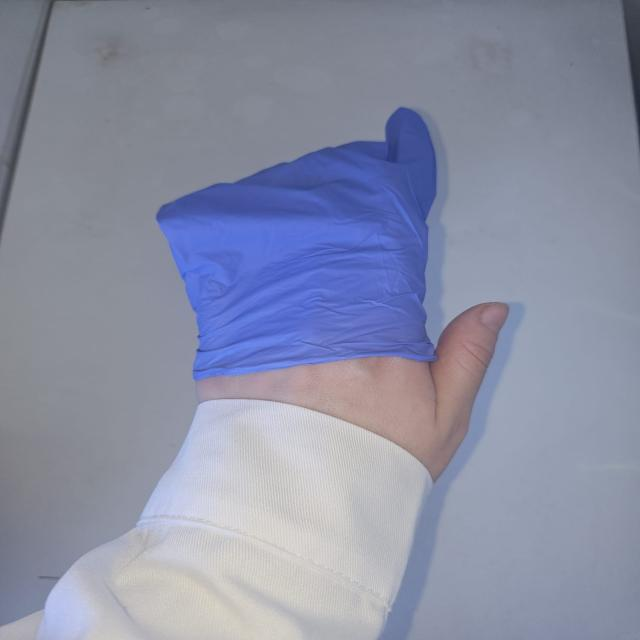glove_partial: (154, 106, 511, 476)
